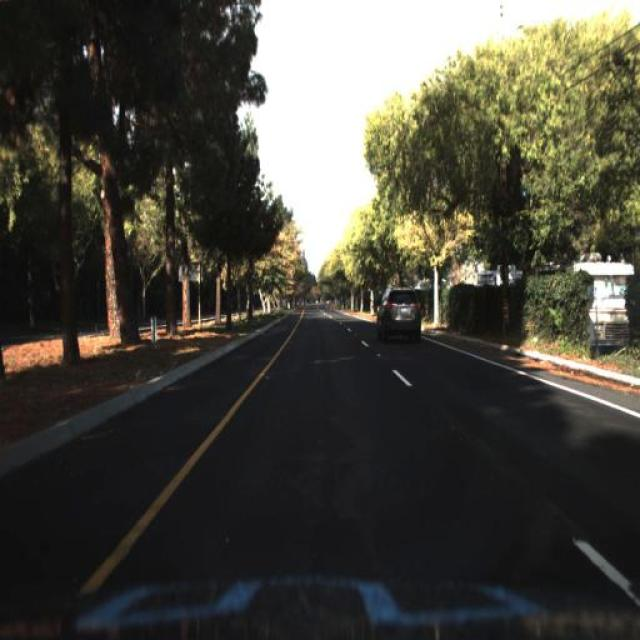car: (373, 284, 422, 346)
